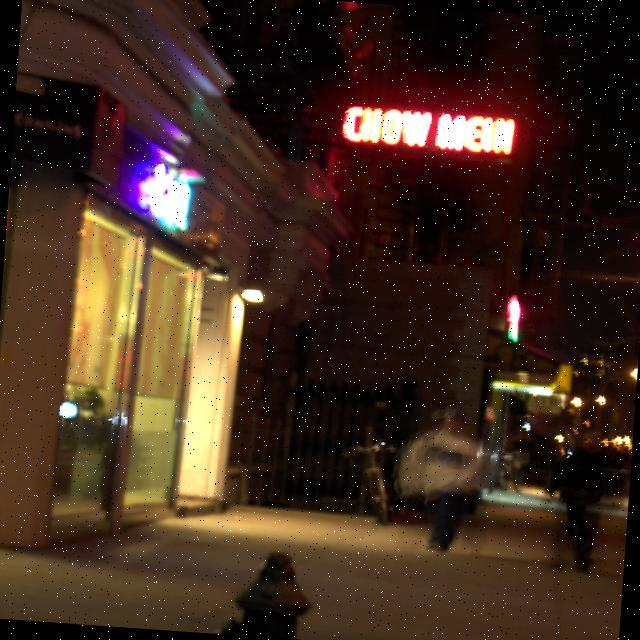fire_hydrant: (221, 547, 314, 639)
